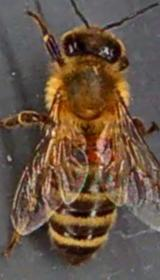varroa_mite: (86, 132, 114, 168)
